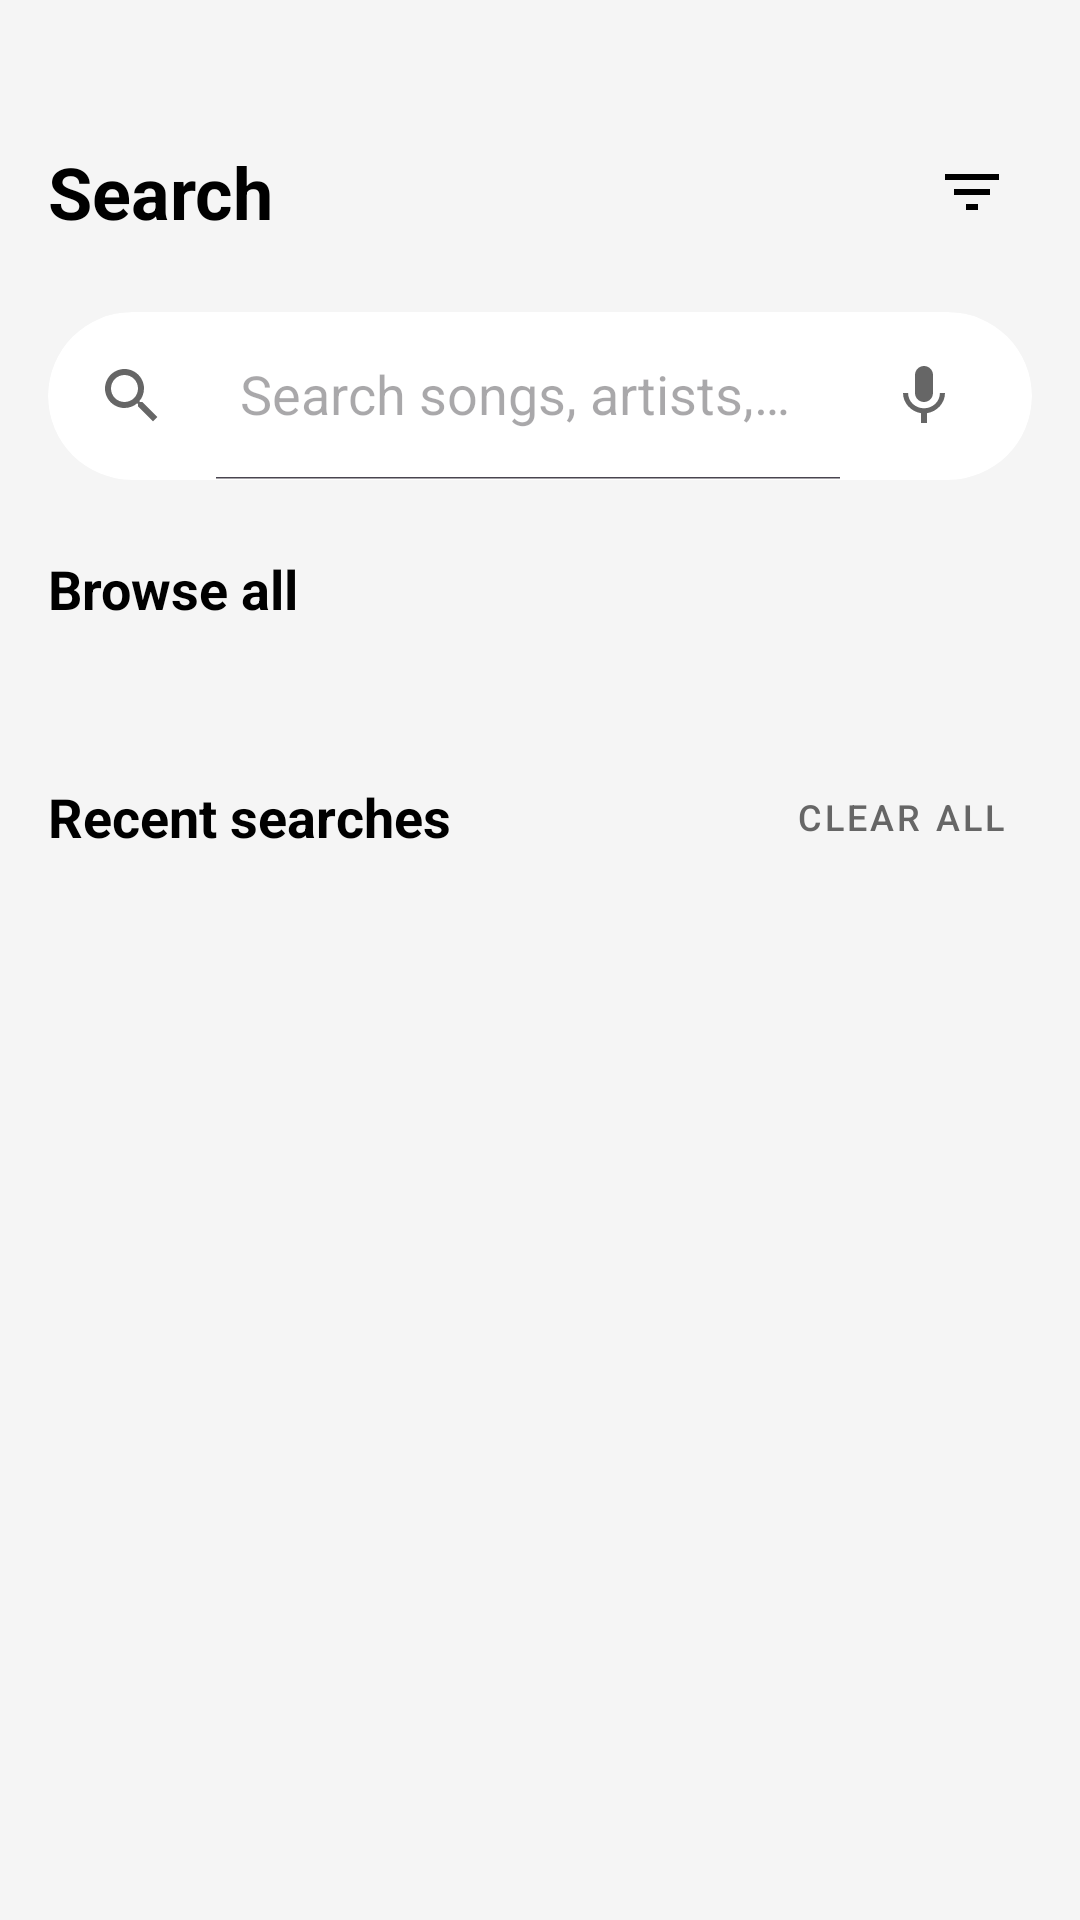

Icons on this 1080*1920 Android screen, each with the point to tap as (x=x, y=y):
filter: (x=972, y=192)
mic: (x=924, y=394)
